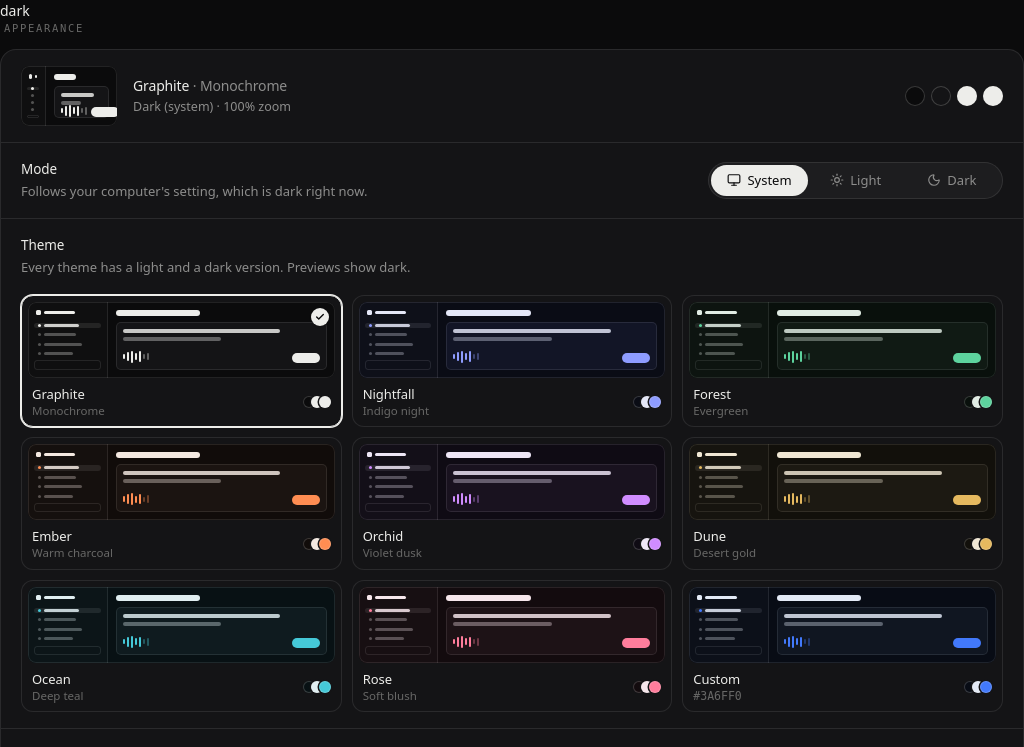
Test: Appearance picker › summarises the current look and follows the mode in previews
Expected: the text "Dark (system) · 100% zoom" is shown, [133, 98, 291, 115]
Expected: the text "Previews show dark" is shown, [21, 258, 410, 276]
Click the radio button with aria-label "Ocean, Deep teal".
click(181, 646)  # box [21, 580, 342, 712]
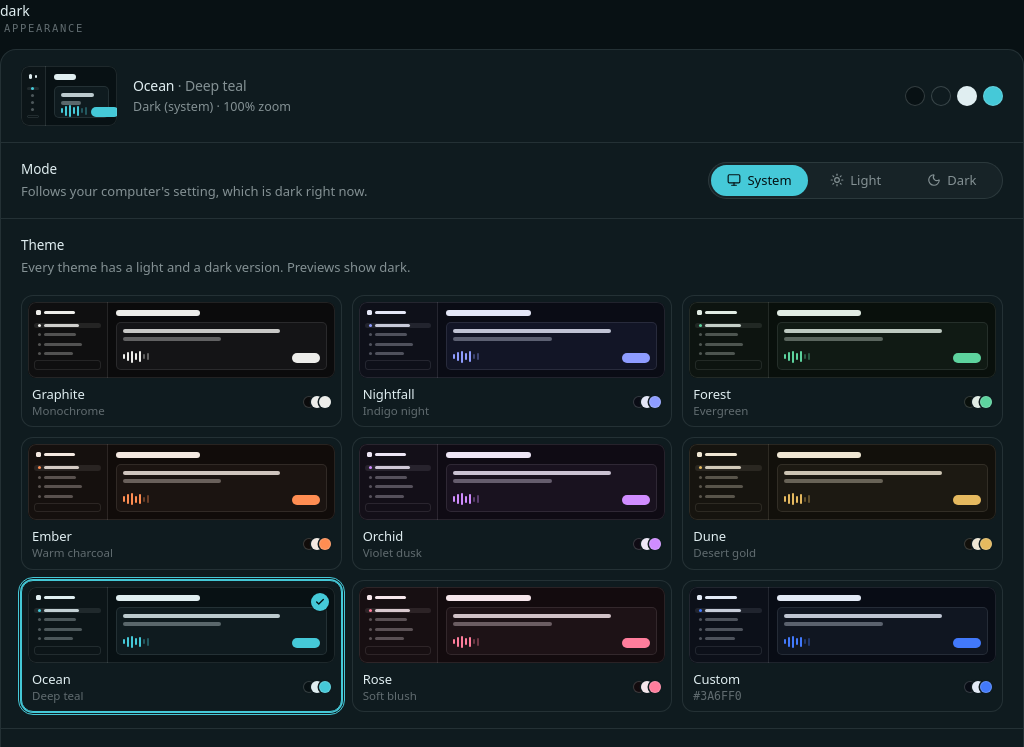
Click the radio button labelled "Light".
click(856, 180)  # box [808, 165, 904, 196]
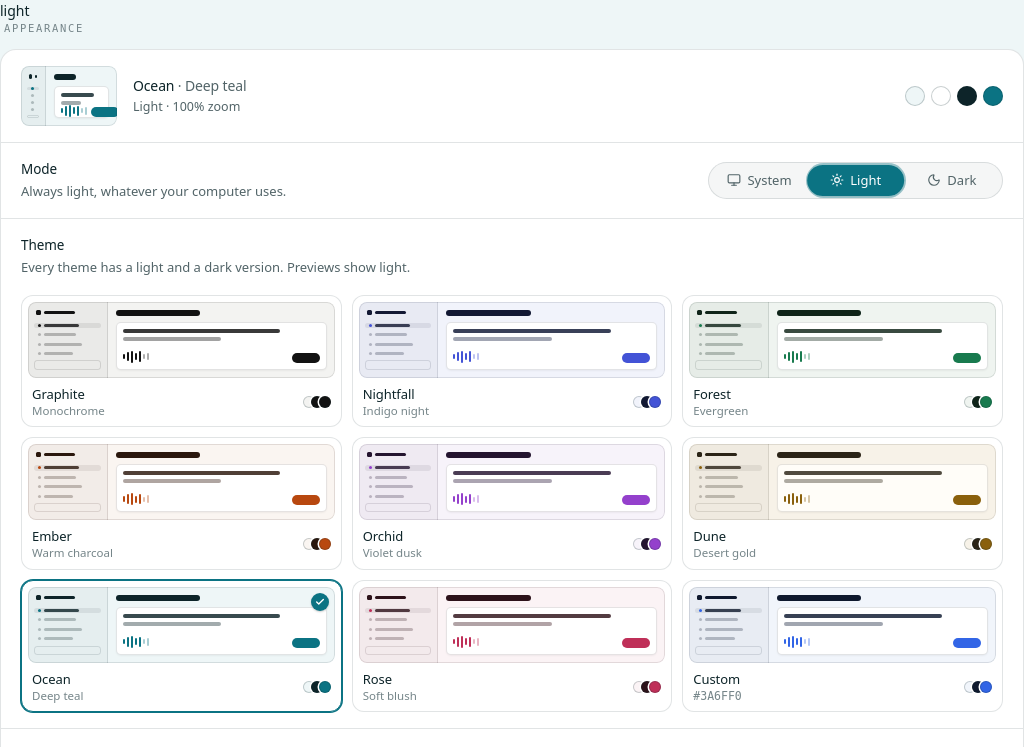
Expected: the text "Light · 100% zoom" is shown, [133, 98, 240, 115]
Expected: the text "Previews show light" is shown, [21, 258, 410, 276]
